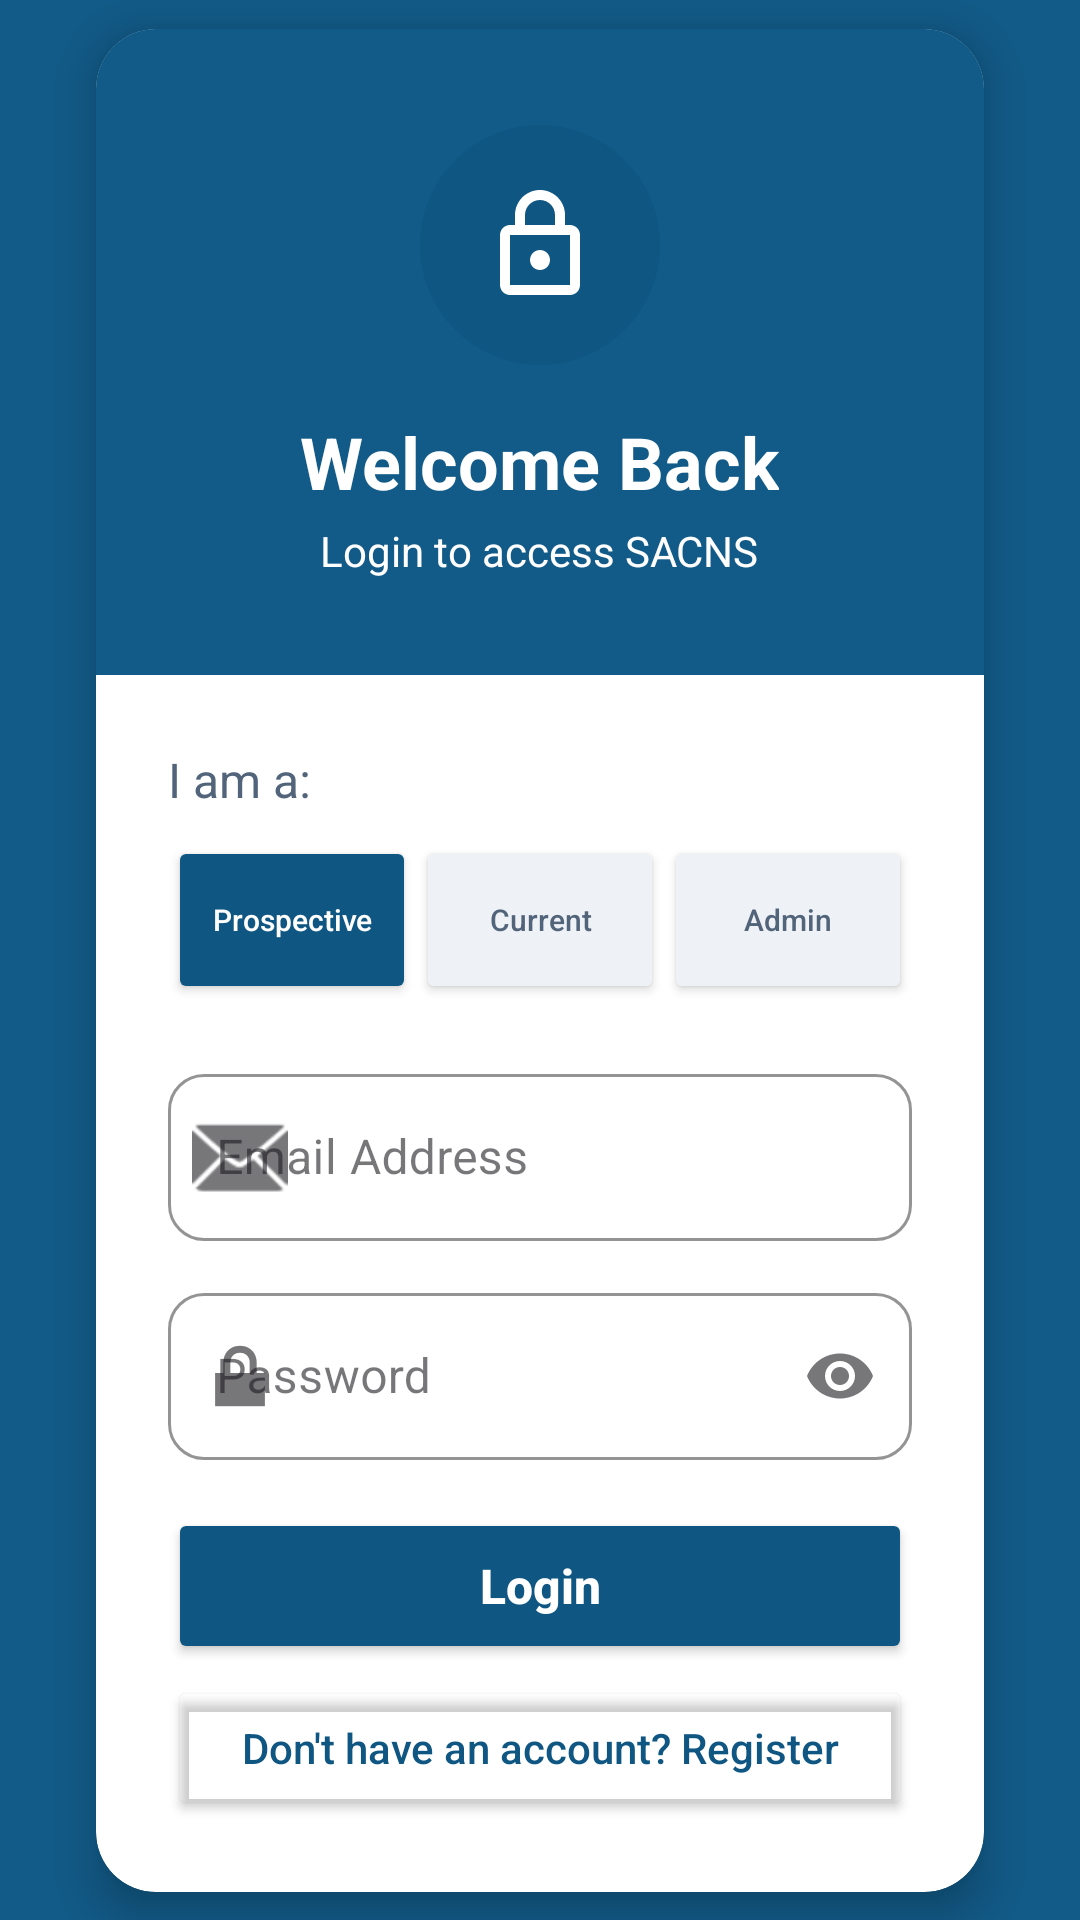

Where to tap for icons on this 1080×1920 app screen, as point (x, y):
Lock: point (540, 242)
